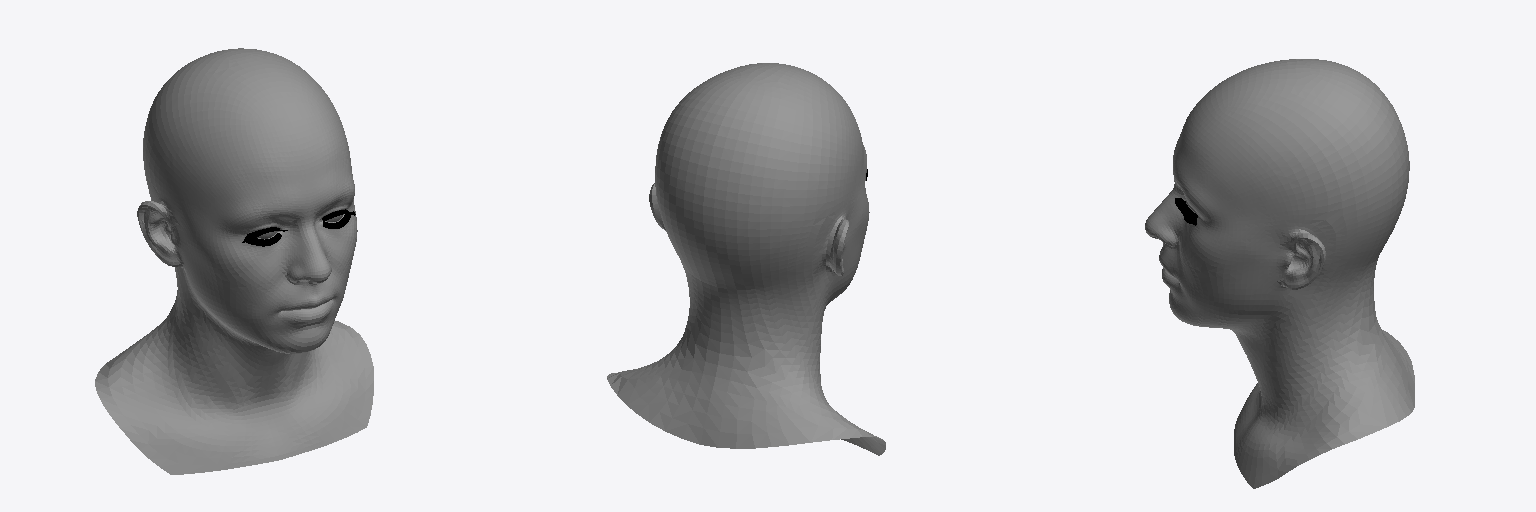
Rendered from identity018.obj.
3 renders of one model, left to right at view 1: azimuth 30°, elevation 25°; view 2: azimuth 150°, elevation 25°; view 3: azimuth 270°, elevation 25°, orthographic.
Size of the model in its own units: 24.68 by 33.84 by 22.1.